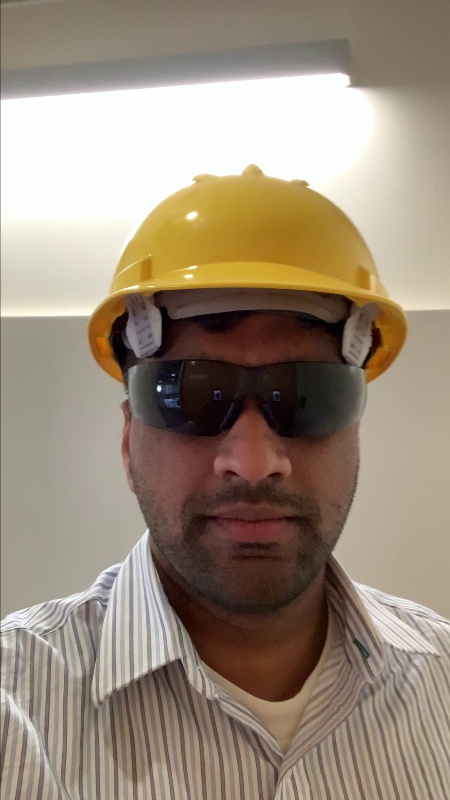glasses: (118, 356, 370, 451)
helmet: (59, 167, 418, 363)
